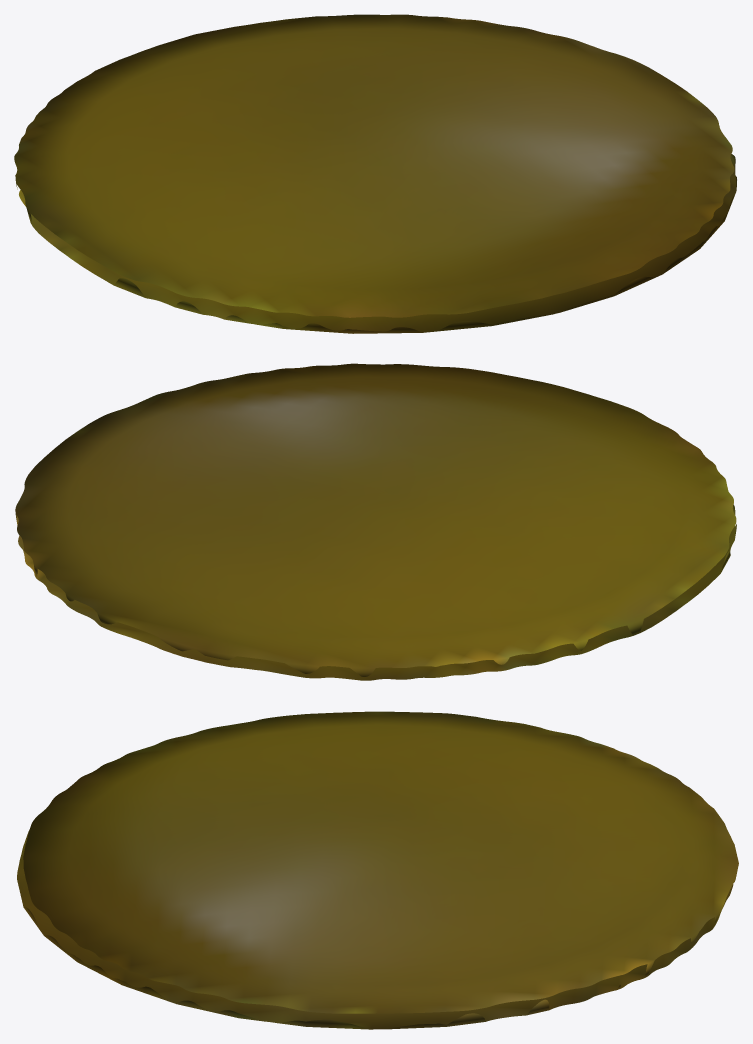
The model's file is MushroomTop1.fbx.
3 renders of one model, top to bottom at view 1: azimuth 30°, elevation 25°; view 2: azimuth 150°, elevation 25°; view 3: azimuth 270°, elevation 25°, orthographic.
Parts seen in each view (by area): view 1: MushroomTop1; view 2: MushroomTop1; view 3: MushroomTop1.
Part boxes in pixels (<box>): MushroomTop1: <box>14,14,736,333</box>; MushroomTop1: <box>15,363,736,680</box>; MushroomTop1: <box>17,711,738,1029</box>.
Bounding box in the file's own units: 3.52 × 0.2611 × 3.52.
1 material, 1 textured.
